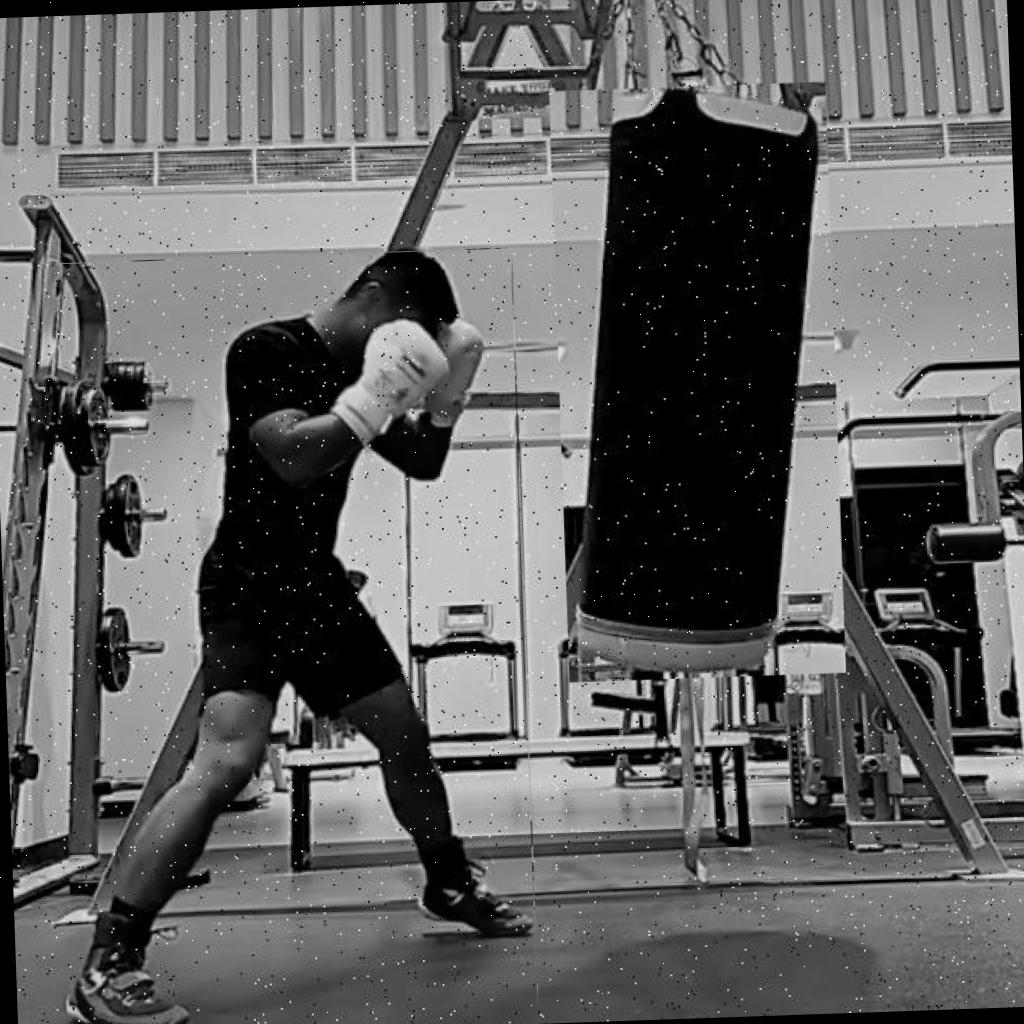bag: (548, 81, 846, 682)
no punch: (40, 247, 538, 1024)
